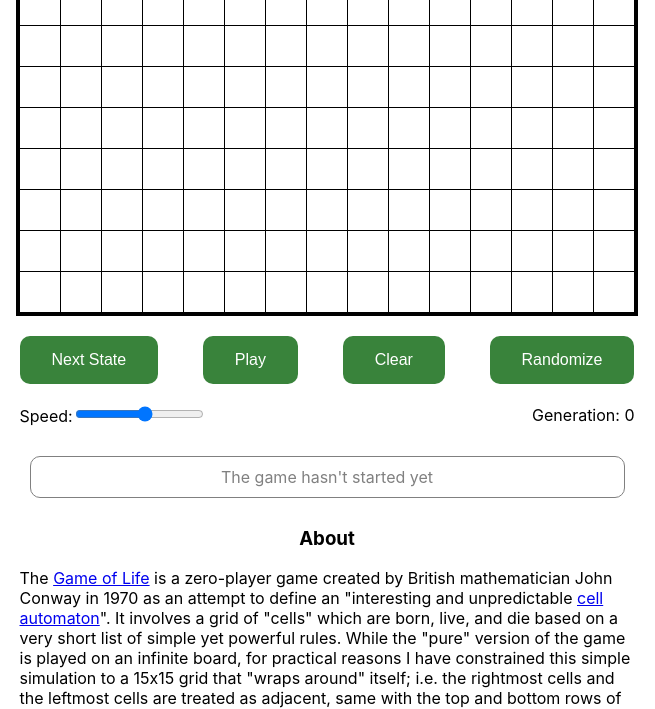
Scenario: clicking 'Clear' button stops the game
(page scrolled)
What coordinates should you click on to do the following:
click the button "Play"
I would click on:
 (250, 360)
Its box is [203,336,298,384].
Wait 504 ms
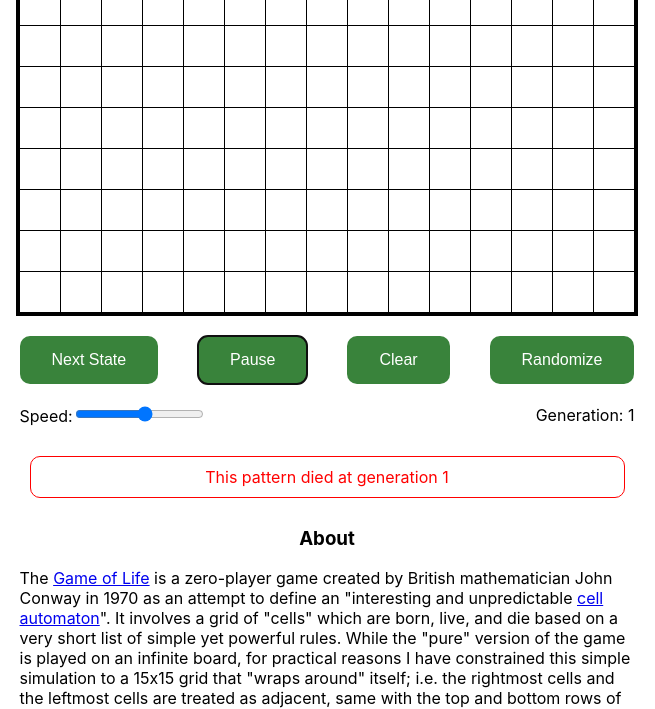
What coordinates should you click on to do the following:
click the button "Clear"
I would click on:
 (398, 360)
Its box is [347,336,450,384].
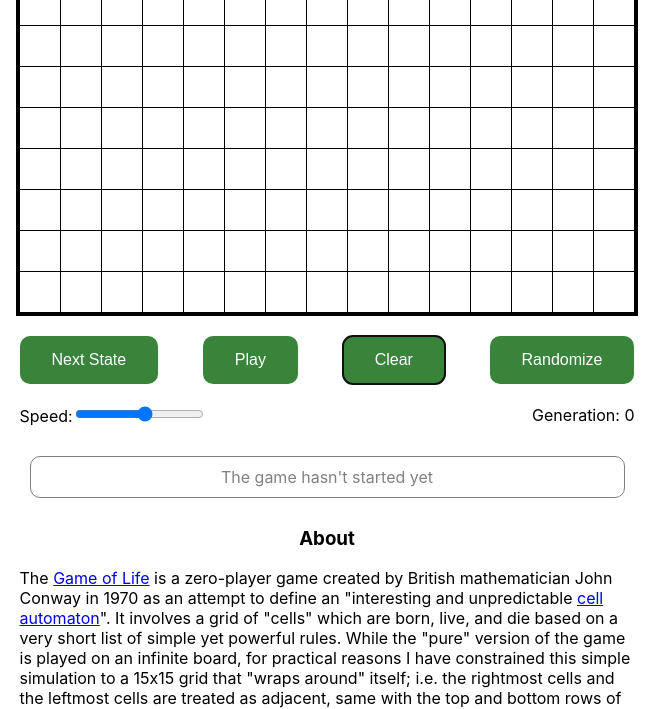
Expected: the button "Play" is shown, [203,336,298,384]
Expected: the text with test id "tickCount" shows "0", [624,405,634,425]
